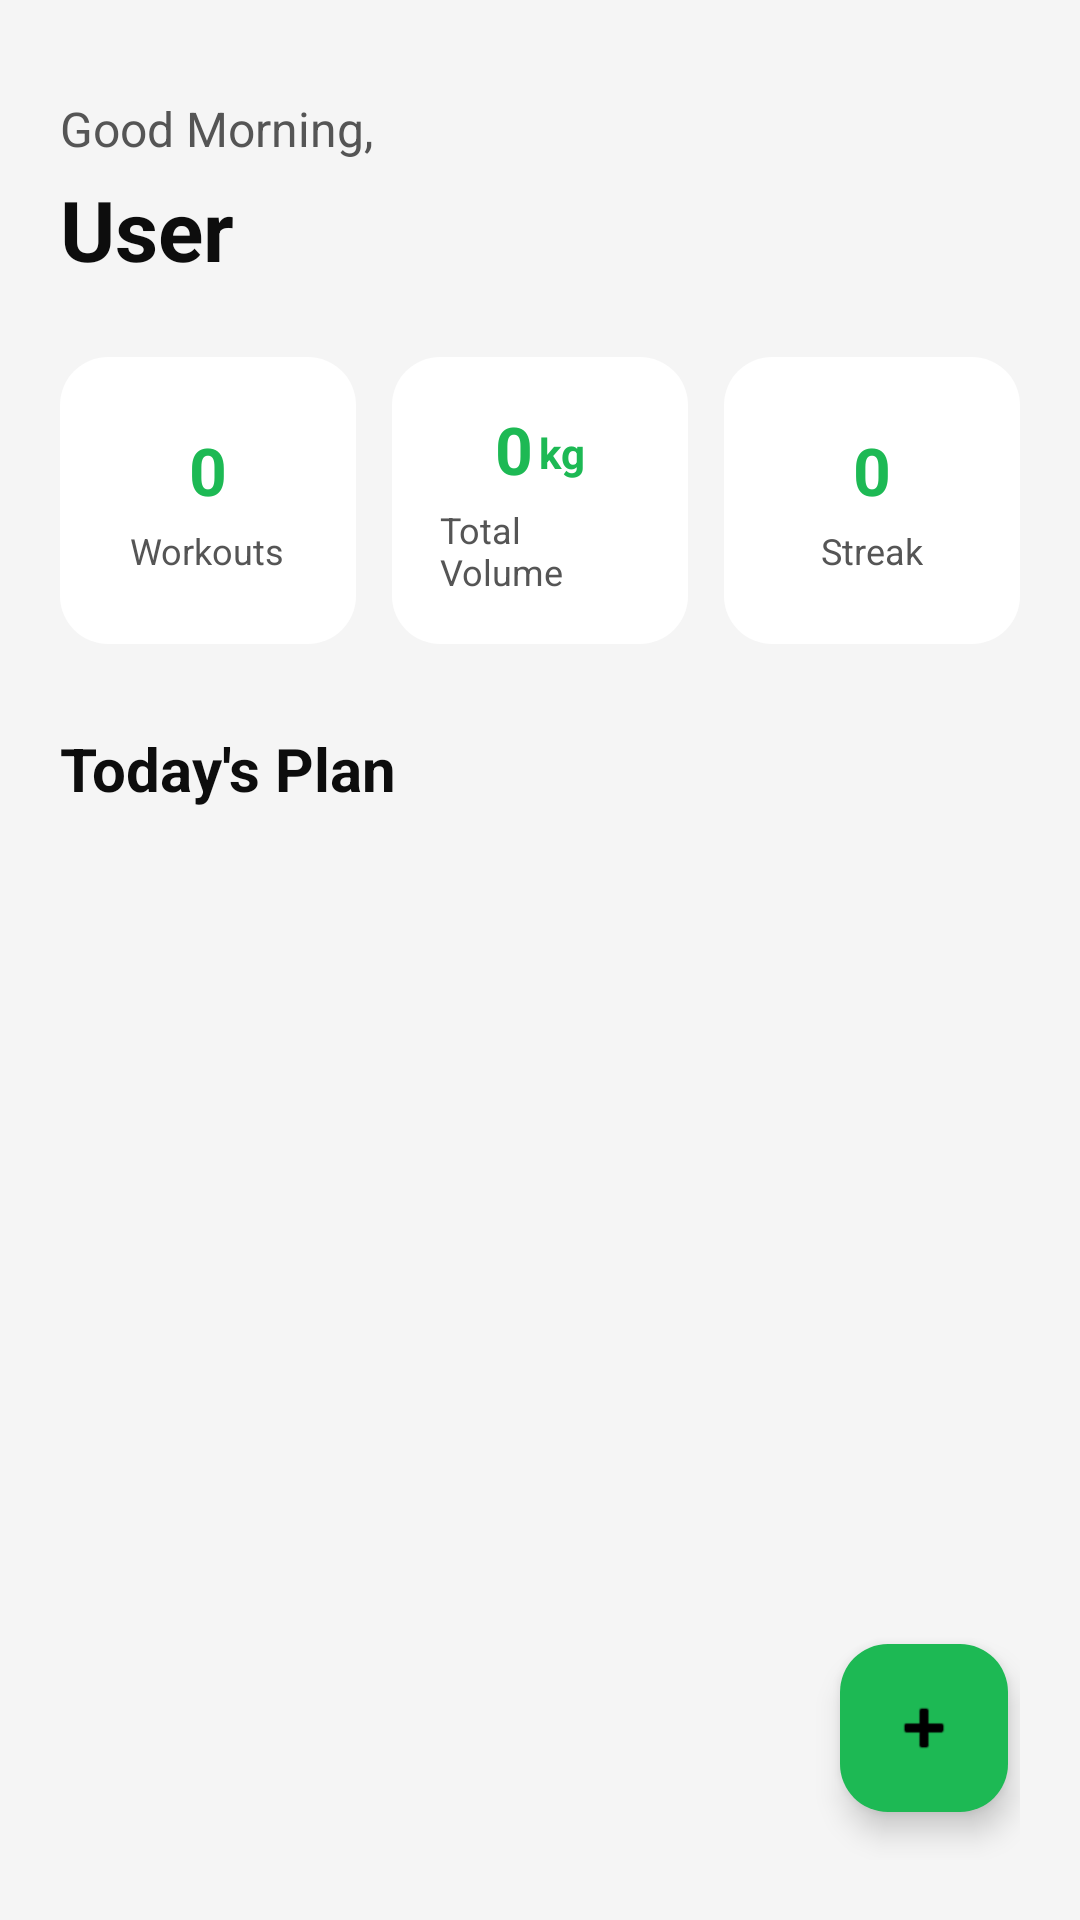

Where icons sit on this 1080px x 1920px app screen, as bbox=[x1, y1, x2, y2]:
Add Workout: bbox=[840, 1644, 1008, 1812]
